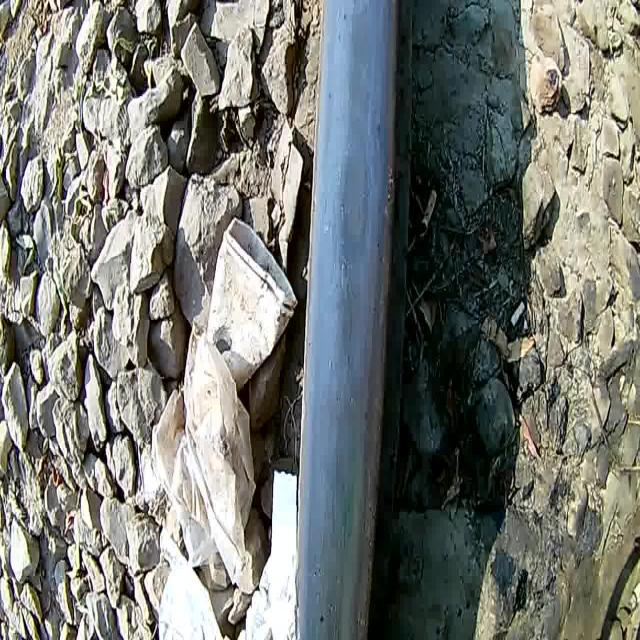Squats: (274, 0, 421, 640)
